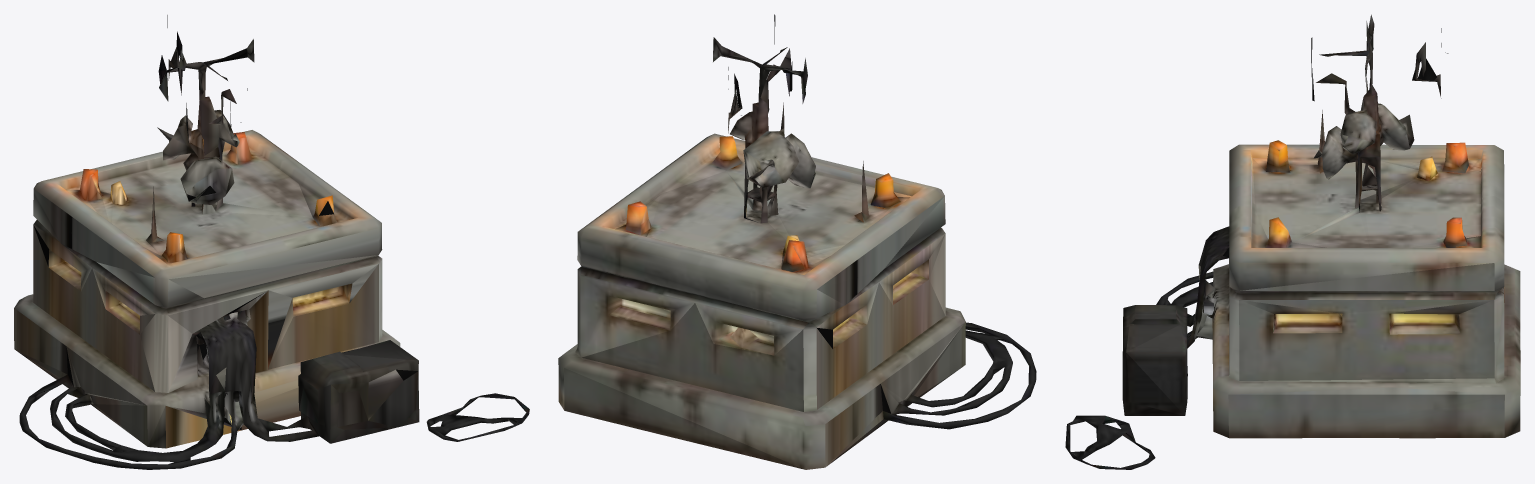
The model's file is prop_command_tower.glb.
3 views of the same model, side by side, from view 1: azimuth 30°, elevation 25°; view 2: azimuth 150°, elevation 25°; view 3: azimuth 270°, elevation 25° (orthographic). The views are drawn at different scales.
Visible parts, largest first — view 1: Mesh_0; view 2: Mesh_0; view 3: Mesh_0.
Part boxes in pixels (left/top/right/bottom): Mesh_0: left=14, top=15, right=529, bottom=469; Mesh_0: left=558, top=14, right=1036, bottom=469; Mesh_0: left=1065, top=14, right=1520, bottom=469.
Bounding box in the file's own units: 1.98 × 1.54 × 1.85.
Materials: 1 (1 with a texture image).
